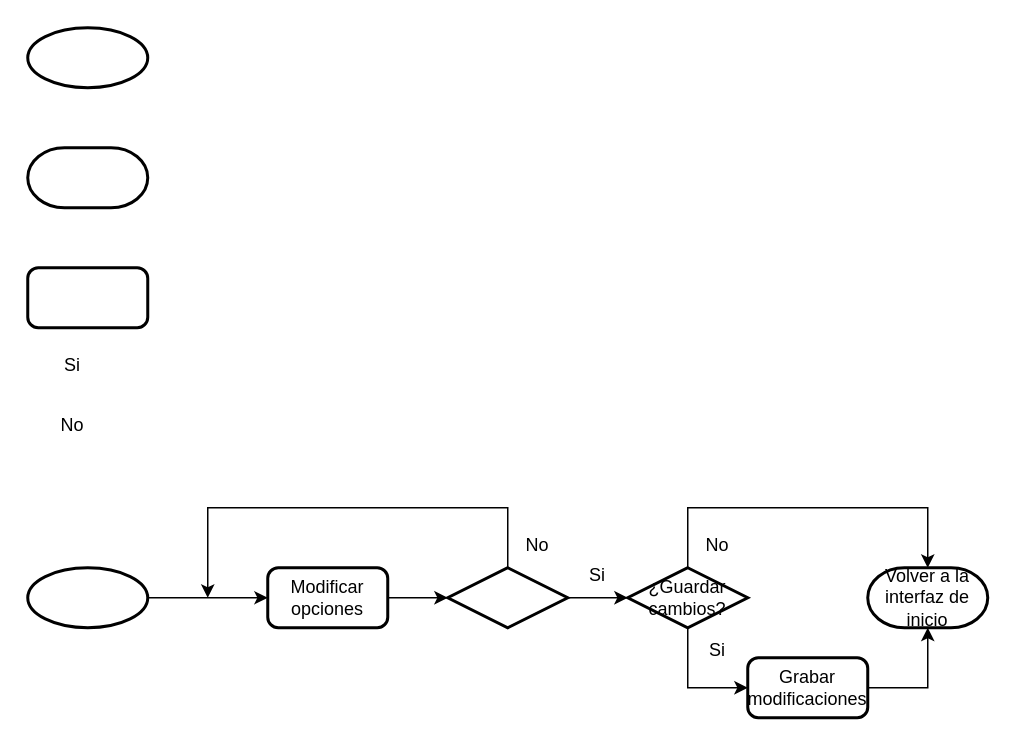
This 1014x744 diagram has some shape labels left out. The centre of each missing label's shape, as x and y in pixels:
"Menú de opciones" belongs at (x=87, y=597).
"¿Salir del menú?" belongs at (x=507, y=597).
